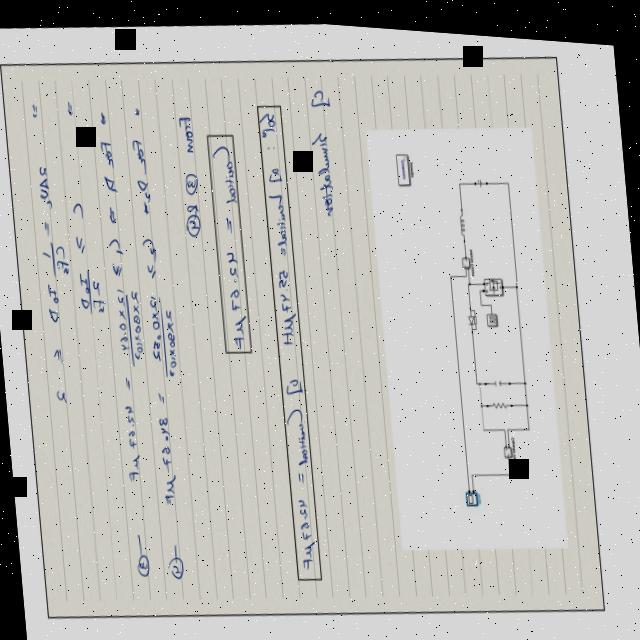capacitor: (490, 369, 505, 380)
diode: (467, 305, 475, 319), (490, 269, 494, 274)
inductor: (457, 198, 466, 235)
mosfet: (488, 272, 500, 286)
node: (479, 417, 486, 424), (457, 173, 462, 178), (459, 199, 464, 204), (514, 275, 518, 281), (505, 171, 509, 177), (483, 373, 488, 377), (522, 371, 526, 376), (468, 297, 472, 301), (479, 395, 483, 399), (509, 394, 513, 398), (508, 372, 512, 376), (525, 394, 529, 398), (526, 417, 530, 421), (470, 321, 473, 326), (478, 373, 481, 377), (462, 231, 466, 234), (475, 373, 478, 377), (486, 394, 488, 398), (468, 274, 471, 276)
resistor: (488, 390, 510, 403)
source: (474, 167, 484, 181)
